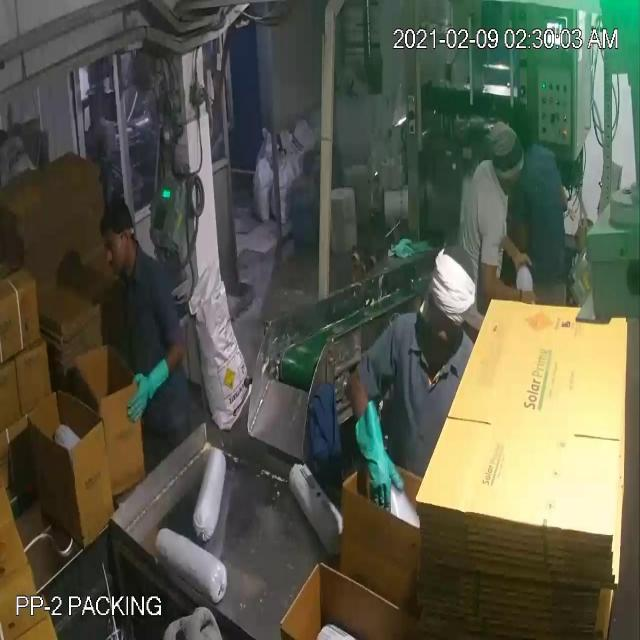Gloves: (46, 54, 519, 456)
